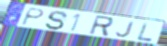1: (71, 14, 83, 33)
J: (115, 20, 137, 38)
L: (137, 21, 154, 42)
P: (20, 8, 46, 27)
R: (87, 15, 115, 38)
S: (44, 11, 70, 31)
